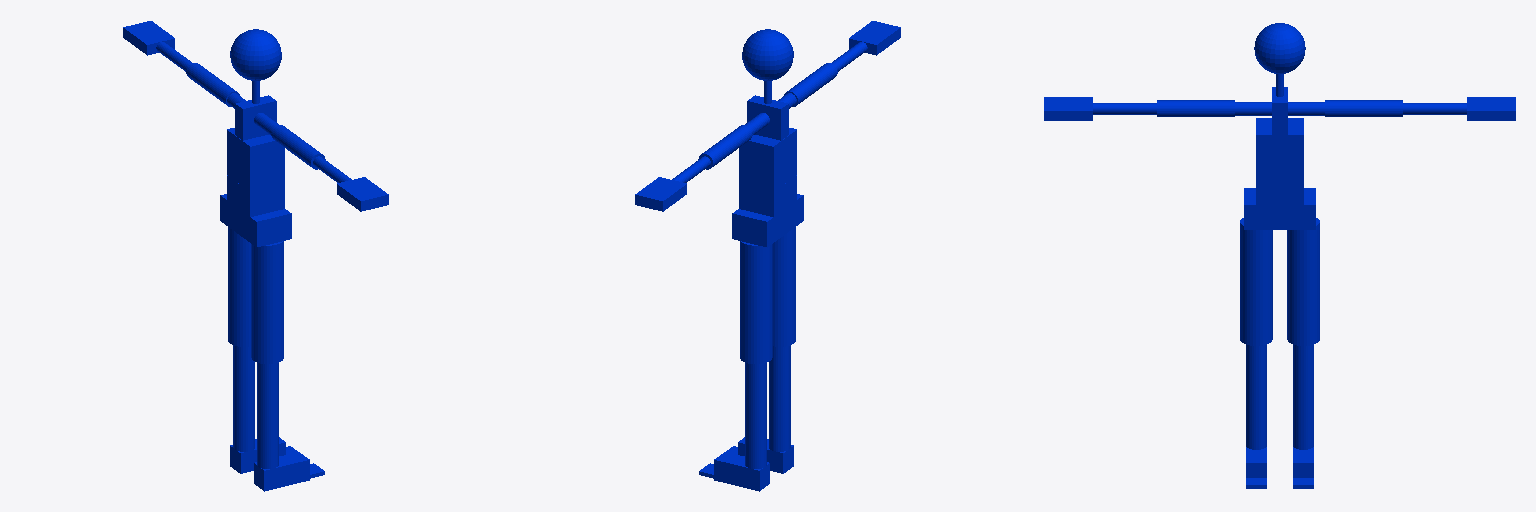
--- Render facts (derived) ---
3 views of the same robot in one strip: view 1: azimuth 30°, elevation 25°; view 2: azimuth 150°, elevation 25°; view 3: azimuth 270°, elevation 25° (orthographic).
Model humanoid with 51 links and 50 joints (50 fixed), rooted at Pelvis, posed all joints at 0.
Links seen in each view (by area): view 1: RightUpperLeg, LeftUpperLeg, RightLowerLeg, LeftLowerLeg, Head, Pelvis, T12, L5, RightFoot, L3, T8, RightHand (+4 smaller); view 2: LeftUpperLeg, RightUpperLeg, LeftLowerLeg, RightLowerLeg, Head, Pelvis, T12, L5, LeftFoot, L3, T8, LeftHand (+4 smaller); view 3: RightUpperLeg, LeftUpperLeg, Pelvis, RightLowerLeg, LeftLowerLeg, Head, T12, RightUpperArm, LeftUpperArm, L5, RightHand, LeftHand (+6 smaller).
Boxes of the visible links, box(x1,y1,x2,y2) form: RightUpperLeg: box(251, 241, 283, 363); LeftUpperLeg: box(228, 227, 250, 346); RightLowerLeg: box(257, 363, 278, 468); LeftLowerLeg: box(233, 345, 254, 451); Head: box(230, 29, 281, 80); Pelvis: box(220, 194, 291, 247); T12: box(227, 128, 284, 169); L5: box(227, 175, 284, 216); RightFoot: box(254, 452, 309, 491); L3: box(227, 153, 284, 191); T8: box(235, 95, 276, 140); RightHand: box(337, 177, 388, 211); LeftUpperLeg: box(740, 241, 772, 363); RightUpperLeg: box(773, 227, 795, 346); LeftLowerLeg: box(745, 363, 766, 468); RightLowerLeg: box(769, 345, 790, 451); Head: box(742, 29, 793, 80); Pelvis: box(732, 194, 803, 247); T12: box(739, 128, 796, 169); L5: box(739, 175, 796, 216); LeftFoot: box(714, 452, 769, 491); L3: box(739, 153, 796, 191); T8: box(747, 95, 788, 140); LeftHand: box(635, 177, 686, 211); RightUpperLeg: box(1240, 218, 1272, 345); LeftUpperLeg: box(1287, 218, 1319, 345); Pelvis: box(1244, 188, 1315, 229); RightLowerLeg: box(1246, 345, 1266, 449); LeftLowerLeg: box(1293, 345, 1313, 449); Head: box(1254, 23, 1305, 73); T12: box(1256, 118, 1303, 156); RightUpperArm: box(1157, 100, 1234, 116); LeftUpperArm: box(1325, 100, 1402, 116); L5: box(1256, 180, 1303, 204); RightHand: box(1044, 97, 1092, 120); LeftHand: box(1467, 97, 1515, 120).
Size in the robot's own frame: 0.2938 by 1.63 by 1.69 metres.
Geometry: primitives only (box / cylinder / sphere), no mesh files.

URDF robot description (humanoid):
<robot name="humanoid">

<material name="color">
    <color rgba="0.011764705882352941 0.2627450980392157 0.8745098039215686 1.0" />
</material>

<!--To open this model with Gazebo replace the null masses, inertias and dimensions of the 'fake links f1 and f2'-->
    <!--LINKS-->
	<!--Link base (1)-->
	<link name="Pelvis">
        <inertial>
            <mass value="0.04976"/>
			<!--COM origin wrt pHipOrigin-->
            <origin xyz="0           0    0.049743" rpy="0 0 0" />
            <inertia ixx="0.029678" iyy="0.011854" izz="0.033653" ixy="0" ixz="0" iyz="0"/>
        </inertial>

        <visual>
			<!--box origin wrt pHipOrigin-->
            <origin xyz="0           0    0.049743" rpy="0 0 0" />
            <geometry>
                <box size="0.13815     0.24914    0.097469"/>
            </geometry>
            <material name="color"/>
        </visual>

        <collision>
			<!--box origin wrt pHipOrigin-->
            <origin xyz="0           0    0.049743" rpy="0 0 0" />
            <geometry>
                <box size="0.13815     0.24914    0.097469"/>
            </geometry>
        </collision>

    </link>
    <!--Chain from (2) to (7)-->
	<link name="L5_f1">
        <inertial>
            <mass value="0"/>
            <origin xyz="0 0 0" rpy="0 0 0" />
            <inertia ixx="0" iyy="0" izz="0" ixy="0" ixz="0" iyz="0"/>
        </inertial>
    </link>
	<link name="L5">
        <inertial>
            <mass value="0.063444"/>
			<!--COM origin wrt jL5S1-->
            <origin xyz="0           0    0.047552" rpy="0 0 0" />
            <inertia ixx="0.018868" iyy="0.014872" izz="0.024177" ixy="0" ixz="0" iyz="0"/>
        </inertial>

        <visual>
			<!--box origin origin wrt jL5S1-->
            <origin xyz="0           0    0.047552" rpy="0 0 0" />
            <geometry>
                <box size="0.13815     0.16323    0.095104"/>
            </geometry>
            <material name="color"/>
        </visual>

        <collision>
			<!--box origin origin wrt jL5S1-->
            <origin xyz="0           0    0.047552" rpy="0 0 0" />
            <geometry>
                <box size="0.13815     0.16323    0.095104"/>
            </geometry>
        </collision>
    </link>
	<link name="L3_f1">
        <inertial>
            <mass value="0"/>
            <origin xyz="0 0 0" rpy="0 0 0" />
            <inertia ixx="0" iyy="0" izz="0" ixy="0" ixz="0" iyz="0"/>
        </inertial>
    </link>
	<link name="L3">
        <inertial>
            <mass value="0.063444"/>
			<!--COM origin wrt jL4L3-->
            <origin xyz="0           0    0.042958" rpy="0 0 0" />
            <inertia ixx="0.017989" iyy="0.013993" izz="0.024177" ixy="0" ixz="0" iyz="0"/>
        </inertial>

        <visual>
			<!--box origin origin wrt jL4L3-->
            <origin xyz="0           0    0.042958" rpy="0 0 0" />
            <geometry>
                <box size="0.13815     0.16323    0.085916"/>
            </geometry>
            <material name="color"/>
        </visual>

        <collision>
			<!--box origin origin wrt jL4L3-->
            <origin xyz="0           0    0.042958" rpy="0 0 0" />
            <geometry>
                <box size="0.13815     0.16323    0.085916"/>
            </geometry>
        </collision>
    </link>
	<link name="T12_f1">
        <inertial>
            <mass value="0"/>
            <origin xyz="0 0 0" rpy="0 0 0" />
            <inertia ixx="0" iyy="0" izz="0" ixy="0" ixz="0" iyz="0"/>
        </inertial>
    </link>
	<link name="T12">
        <inertial>
            <mass value="0.063444"/>
			<!--COM origin wrt jL1T12-->
            <origin xyz="0           0    0.042958" rpy="0 0 0" />
            <inertia ixx="0.017989" iyy="0.013993" izz="0.024177" ixy="0" ixz="0" iyz="0"/>
        </inertial>

        <visual>
			<!--box origin origin wrt jL1T12-->
            <origin xyz="0           0    0.042958" rpy="0 0 0" />
            <geometry>
                <box size="0.13815     0.16323    0.085916"/>
            </geometry>
            <material name="color"/>
        </visual>

        <collision>
			<!--box origin origin wrt jL1T12-->
            <origin xyz="0           0    0.042958" rpy="0 0 0" />
            <geometry>
                <box size="0.13815     0.16323    0.085916"/>
            </geometry>
        </collision>
    </link>
	<link name="T8_f1">
        <inertial>
            <mass value="0"/>
            <origin xyz="0 0 0" rpy="0 0 0" />
            <inertia ixx="0" iyy="0" izz="0" ixy="0" ixz="0" iyz="0"/>
        </inertial>
    </link>
	<link name="T8_f2">
        <inertial>
            <mass value="0"/>
            <origin xyz="0 0 0" rpy="0 0 0" />
            <inertia ixx="0" iyy="0" izz="0" ixy="0" ixz="0" iyz="0"/>
        </inertial>
    </link>
	<link name="T8">
        <inertial>
            <mass value="0.02488"/>
			<!--COM origin wrt jT9T8-->
            <origin xyz="0           0    0.059874" rpy="0 0 0" />
            <inertia ixx="0.0035473" iyy="0.0067278" izz="0.0043289" ixy="0" ixz="0" iyz="0"/>
        </inertial>

        <visual>
			<!--box origin wrt jT9T8-->
            <origin xyz="0           0    0.059874" rpy="0 0 0" />
            <geometry>
                <box size="0.13457    0.052626     0.11975"/>
            </geometry>
            <material name="color"/>
        </visual>

        <collision>
			<!--box origin wrt jT9T8-->
            <origin xyz="0           0    0.059874" rpy="0 0 0" />
            <geometry>
                <box size="0.13457    0.052626     0.11975"/>
            </geometry>
        </collision>

    </link>
	<link name="Neck_f1">
        <inertial>
            <mass value="0"/>
            <origin xyz="0 0 0" rpy="0 0 0" />
            <inertia ixx="0" iyy="0" izz="0" ixy="0" ixz="0" iyz="0"/>
        </inertial>
    </link>
	<link name="Neck_f2">
        <inertial>
            <mass value="0"/>
            <origin xyz="0 0 0" rpy="0 0 0" />
            <inertia ixx="0" iyy="0" izz="0" ixy="0" ixz="0" iyz="0"/>
        </inertial>
    </link>
	<link name="Neck">
        <inertial>
            <mass value="0.007464"/>
			<!--COM origin wrt jT1C7-->
            <origin xyz="0           0    0.044626" rpy="0 0 0" />
            <inertia ixx="0.0006461" iyy="0.0006461" izz="0.00030124" ixy="0" ixz="0" iyz="0"/>
        </inertial>

        <visual>
			<!--box origin wrt jT1C7-->
            <origin xyz="0           0    0.044626" rpy="0 0 0" />
            <geometry>
		<cylinder length="0.089252" radius="0.014205"/>
            </geometry>
            <material name="color"/>
        </visual>

        <collision>
			<!--box origin wrt jT1C7-->
            <origin xyz="0           0    0.044626" rpy="0 0 0" />
            <geometry>
                <cylinder length="0.089252" radius="0.014205"/>
            </geometry>
        </collision>
    </link>
	<link name="Head_f1">
        <inertial>
            <mass value="0"/>
            <origin xyz="0 0 0" rpy="0 0 0" />
            <inertia ixx="0" iyy="0" izz="0" ixy="0" ixz="0" iyz="0"/>
        </inertial>
    </link>
	<link name="Head">
        <inertial>
            <mass value="0.022392"/>
			<!--COM origin wrt jC1Head-->
            <origin xyz="0           0    0.089005" rpy="0 0 0" />
            <inertia ixx="0.0070955" iyy="0.0070955" izz="0.0070955" ixy="0" ixz="0" iyz="0"/>
        </inertial>

        <visual>
			<!--boc origin wrt jC1Head-->
            <origin xyz="0           0    0.089005" rpy="0 0 0" />
            <geometry>
                <sphere radius="0.089005"/>
            </geometry>
            <material name="color"/>
        </visual>

        <collision>
			<!--box origin wrt jC1Head-->
            <origin xyz="0           0    0.089005" rpy="0 0 0" />
            <geometry>
                <sphere radius="0.089005"/>
            </geometry>
        </collision>

    </link>
	<!--Chain from (8) to (11)-->
	<link name="RightShoulder">
        <inertial>
            <mass value="0.019282"/>
			<!--COM origin wrt jRightC7Shoulder-->
            <origin xyz="0   -0.065233           0" rpy="0 0 0" />
            <inertia ixx="0.0030029" iyy="0.00053578" izz="0.0030029" ixy="0" ixz="0" iyz="0"/>
        </inertial>

        <visual>
			<!--box origin wrt jRightC7Shoulder. RPY rotated of pi/2.-->
            <origin xyz="0   -0.065233           0" rpy="1.5708 0 0" />
            <geometry>
                <cylinder length="0.13047" radius="0.023574"/>
            </geometry>
            <material name="color"/>
        </visual>

        <collision>
			<!--box origin wrt jRightC7Shoulder. RPY rotated of pi/2.-->
            <origin xyz="0   -0.065233           0" rpy="1.5708 0 0" />
            <geometry>
                <cylinder length="0.13047" radius="0.023574"/>
            </geometry>
        </collision>

    </link>
	<link name="RightUpperArm_f1">
        <inertial>
            <mass value="0"/>
            <origin xyz="0 0 0" rpy="0 0 0" />
            <inertia ixx="0" iyy="0" izz="0" ixy="0" ixz="0" iyz="0"/>
        </inertial>
    </link>
	<link name="RightUpperArm_f2">
        <inertial>
            <mass value="0"/>
            <origin xyz="0 0 0" rpy="0 0 0" />
            <inertia ixx="0" iyy="0" izz="0" ixy="0" ixz="0" iyz="0"/>
        </inertial>
    </link>
    <link name="RightUpperArm">
        <inertial>
            <mass value="0.01866"/>
			<!--COM origin wrt jRightShoulder-->
            <origin xyz="0    -0.13497           0" rpy="0 0 0" />
            <inertia ixx="0.011736" iyy="0.00080917" izz="0.011736" ixy="0" ixz="0" iyz="0"/>
        </inertial>

        <visual>
			<!--box origin wrt jRightShoulder. RPY rotated of pi/2.-->
            <origin xyz="0    -0.13497           0" rpy="1.5708 0 0" />
            <geometry>
                <cylinder length="0.26994" radius="0.029449"/>
            </geometry>
            <material name="color"/>
        </visual>

        <collision>
			<!--box origin wrt jRightShoulder. RPY rotated of pi/2.-->
            <origin xyz="0    -0.13497           0" rpy="1.5708 0 0" />
            <geometry>
                <cylinder length="0.26994" radius="0.029449"/>
            </geometry>
        </collision>

    </link>
	<link name="RightForeArm_f1">
        <inertial>
            <mass value="0"/>
            <origin xyz="0 0 0" rpy="0 0 0" />
            <inertia ixx="0" iyy="0" izz="0" ixy="0" ixz="0" iyz="0"/>
        </inertial>
    </link>
	<link name="RightForeArm">
        <inertial>
            <mass value="0.01244"/>
			<!--COM origin wrt jRightElbow-->
            <origin xyz="0    -0.11124           0" rpy="0 0 0" />
            <inertia ixx="0.0052508" iyy="0.00023975" izz="0.0052508" ixy="0" ixz="0" iyz="0"/>
        </inertial>

        <visual>
			<!--box origin wrt jRightElbow. RPY rotated of pi/2.-->
            <origin xyz="0    -0.11124           0" rpy="1.5708 0 0" />
            <geometry>
                <cylinder length="0.22247" radius="0.019633"/>
            </geometry>
            <material name="color"/>
        </visual>

        <collision>
			<!--box origin wrt jRightElbow. RPY rotated of pi/2.-->
            <origin xyz="0    -0.11124           0" rpy="1.5708 0 0" />
            <geometry>
                <cylinder length="0.22247" radius="0.019633"/>
            </geometry>
        </collision>

    </link>
	<link name="RightHand_f1">
        <inertial>
            <mass value="0"/>
            <origin xyz="0 0 0" rpy="0 0 0" />
            <inertia ixx="0" iyy="0" izz="0" ixy="0" ixz="0" iyz="0"/>
        </inertial>
    </link>
	<link name="RightHand">
        <inertial>
            <mass value="0.003732"/>
			<!--COM origin wrt jRightWrist-->
            <origin xyz="0   -0.083588           0" rpy="0 0 0" />
            <inertia ixx="0.00091713" iyy="0.00043425" izz="0.0012555" ixy="0" ixz="0" iyz="0"/>
        </inertial>

        <visual>
			<!--box origin wrt jRightWrist-->
            <origin xyz="0   -0.083588           0" rpy="0 0 0" />
            <geometry>
                <box size="0.11145     0.16718    0.039266"/>
            </geometry>
            <material name="color"/>
        </visual>

        <collision>
			<!--box origin wrt jRightWrist-->
            <origin xyz="0   -0.083588           0" rpy="0 0 0" />
            <geometry>
                <box size="0.11145     0.16718    0.039266"/>
            </geometry>
        </collision>

    </link>
    <link name="RightHandCOM">
        <inertial>
            <mass value="0.0000001"/>
            <origin xyz="0 0 0" rpy="0 0 0" />
            <inertia ixx="0" iyy="0" izz="0" ixy="0" ixz="0" iyz="0"/>
        </inertial>
        <visual>
            <!--box origin wrt jRightWrist-->
            <origin xyz="0   0           0" rpy="0 0 0" />
            <geometry>
                <box size="0     0    0"/>
            </geometry>
            <material name="color"/>
        </visual>
    </link>
	<!--Chain from (12) to (15)-->
	<link name="LeftShoulder">
        <inertial>
            <mass value="0.019282"/>
			<!--COM origin wrt jLeftC7Shoulder-->
            <origin xyz="0    0.065233           0" rpy="0 0 0" />
            <inertia ixx="0.0030029" iyy="0.00053578" izz="0.0030029" ixy="0" ixz="0" iyz="0"/>
        </inertial>

        <visual>
			<!--box origin wrt jLeftC7Shoulder. RPY rotated of pi/2.-->
            <origin xyz="0    0.065233           0" rpy="1.5708 0 0" />
            <geometry>
                <cylinder length="0.13047" radius="0.023574"/>
            </geometry>
            <material name="color"/>
        </visual>

        <collision>
			<!--box origin wrt jLeftC7Shoulder. RPY rotated of pi/2.-->
            <origin xyz="0    0.065233           0" rpy="1.5708 0 0" />
            <geometry>
                <cylinder length="0.13047" radius="0.023574"/>
            </geometry>
        </collision>

    </link>
	<link name="LeftUpperArm_f1">
        <inertial>
            <mass value="0"/>
            <origin xyz="0 0 0" rpy="0 0 0" />
            <inertia ixx="0" iyy="0" izz="0" ixy="0" ixz="0" iyz="0"/>
        </inertial>
    </link>
	<link name="LeftUpperArm_f2">
        <inertial>
            <mass value="0"/>
            <origin xyz="0 0 0" rpy="0 0 0" />
            <inertia ixx="0" iyy="0" izz="0" ixy="0" ixz="0" iyz="0"/>
        </inertial>
    </link>
	<link name="LeftUpperArm">
        <inertial>
            <mass value="0.01866"/>
			<!--COM origin wrt jLeftShoulder-->
            <origin xyz="0     0.13497           0" rpy="0 0 0" />
            <inertia ixx="0.011736" iyy="0.00080917" izz="0.011736" ixy="0" ixz="0" iyz="0"/>
        </inertial>

        <visual>
			<!--box origin wrt jLeftShoulder. RPY rotated of pi/2.-->
            <origin xyz="0     0.13497           0" rpy="1.5708 0 0" />
            <geometry>
                <cylinder length="0.26994" radius="0.029449"/>
            </geometry>
            <material name="color"/>
        </visual>

        <collision>
			<!--box origin wrt jLeftShoulder. RPY rotated of pi/2.-->
            <origin xyz="0     0.13497           0" rpy="1.5708 0 0" />
            <geometry>
                <cylinder length="0.26994" radius="0.029449"/>
            </geometry>
        </collision>

    </link>
	<link name="LeftForeArm_f1">
        <inertial>
            <mass value="0"/>
            <origin xyz="0 0 0" rpy="0 0 0" />
            <inertia ixx="0" iyy="0" izz="0" ixy="0" ixz="0" iyz="0"/>
        </inertial>
    </link>
	<link name="LeftForeArm">
        <inertial>
            <mass value="0.01244"/>
			<!--COM origin wrt jLeftElbow-->
            <origin xyz="0     0.11124           0" rpy="0 0 0" />
            <inertia ixx="0.0052508" iyy="0.00023975" izz="0.0052508" ixy="0" ixz="0" iyz="0"/>
        </inertial>

        <visual>
			<!--box origin wrt jLeftElbow. RPY rotated of pi/2.-->
            <origin xyz="0     0.11124           0" rpy="1.5708 0 0" />
            <geometry>
                <cylinder length="0.22247" radius="0.019633"/>
            </geometry>
            <material name="color"/>
        </visual>

        <collision>
			<!--box origin wrt jLeftElbow. RPY rotated of pi/2.-->
            <origin xyz="0     0.11124           0" rpy="1.5708 0 0" />
            <geometry>
                <cylinder length="0.22247" radius="0.019633"/>
            </geometry>
        </collision>

    </link>
	<link name="LeftHand_f1">
        <inertial>
            <mass value="0"/>
            <origin xyz="0 0 0" rpy="0 0 0" />
            <inertia ixx="0" iyy="0" izz="0" ixy="0" ixz="0" iyz="0"/>
        </inertial>
    </link>
	<link name="LeftHand">
        <inertial>
            <mass value="0.003732"/>
			<!--COM origin wrt jLeftWrist-->
            <origin xyz="0    0.083588           0" rpy="0 0 0" />
            <inertia ixx="0.00091713" iyy="0.00043425" izz="0.0012555" ixy="0" ixz="0" iyz="0"/>
        </inertial>

        <visual>
			<!--COM origin wrt jLeftWrist-->
            <origin xyz="0    0.083588           0" rpy="0 0 0" />
            <geometry>
                <box size="0.11145     0.16718    0.039266"/>
            </geometry>
            <material name="color"/>
        </visual>

        <collision>
			<!--COM origin wrt jLeftWrist-->
            <origin xyz="0    0.083588           0" rpy="0 0 0" />
            <geometry>
                <box size="0.11145     0.16718    0.039266"/>
            </geometry>
        </collision>

    </link>
    <link name="LeftHandCOM">
        <inertial>
            <mass value="0.0000001"/>
            <origin xyz="0 0 0" rpy="0 0 0" />
            <inertia ixx="0" iyy="0" izz="0" ixy="0" ixz="0" iyz="0"/>
        </inertial>
        <visual>
            <!--COM origin wrt jLeftWrist-->
            <origin xyz="0    0           0" rpy="0 0 0" />
            <geometry>
                <box size="0     0    0"/>
            </geometry>
            <material name="color"/>
        </visual>
    </link>
	<!--Chain from (16) to (19)-->
	<link name="RightUpperLeg_f1">
        <inertial>
            <mass value="0"/>
            <origin xyz="0 0 0" rpy="0 0 0" />
            <inertia ixx="0" iyy="0" izz="0" ixy="0" ixz="0" iyz="0"/>
        </inertial>
    </link>
	<link name="RightUpperLeg_f2">
        <inertial>
            <mass value="0"/>
            <origin xyz="0 0 0" rpy="0 0 0" />
            <inertia ixx="0" iyy="0" izz="0" ixy="0" ixz="0" iyz="0"/>
        </inertial>
    </link>
    <link name="RightUpperLeg">
        <inertial>
            <mass value="0.07775"/>
			<!--COM origin wrt jRightHip-->
            <origin xyz="0           0    -0.22449" rpy="0 0 0" />
            <inertia ixx="0.13681" iyy="0.13681" izz="0.01241" ixy="0" ixz="0" iyz="0"/>
        </inertial>

        <visual>
			<!--box origin wrt jRightHip-->
            <origin xyz="0           0    -0.22449" rpy="0 0 0" />
            <geometry>
                <cylinder length="0.44898" radius="0.0565"/>
            </geometry>
            <material name="color"/>
        </visual>

        <collision>
			<!--box origin wrt jRightHip-->
            <origin xyz="0           0    -0.22449" rpy="0 0 0" />
            <geometry>
                <cylinder length="0.44898" radius="0.0565"/>
            </geometry>
        </collision>

    </link>
	<link name="RightLowerLeg_f1">
        <inertial>
            <mass value="0"/>
            <origin xyz="0 0 0" rpy="0 0 0" />
            <inertia ixx="0" iyy="0" izz="0" ixy="0" ixz="0" iyz="0"/>
        </inertial>
    </link>
    <link name="RightLowerLeg">
        <inertial>
            <mass value="0.022703"/>
			<!--COM origin wrt jRightKnee-->
            <origin xyz="0           0    -0.20304" rpy="0 0 0" />
            <inertia ixx="0.031992" iyy="0.031992" izz="0.0015867" ixy="0" ixz="0" iyz="0"/>
        </inertial>

        <visual>
			<!--box origin wrt jRightKnee-->
            <origin xyz="0           0    -0.20304" rpy="0 0 0" />
            <geometry>
                <cylinder length="0.40608" radius="0.037388"/>
            </geometry>
            <material name="color"/>
        </visual>

        <collision>
			<!--box origin wrt jRightKnee-->
            <origin xyz="0           0    -0.20304" rpy="0 0 0" />
            <geometry>
                <cylinder length="0.40608" radius="0.037388"/>
            </geometry>
        </collision>

    </link>
	<link name="RightFoot_f1">
        <inertial>
            <mass value="0"/>
            <origin xyz="0 0 0" rpy="0 0 0" />
            <inertia ixx="0" iyy="0" izz="0" ixy="0" ixz="0" iyz="0"/>
        </inertial>
    </link>
	<link name="RightFoot_f2">
        <inertial>
            <mass value="0"/>
            <origin xyz="0 0 0" rpy="0 0 0" />
            <inertia ixx="0" iyy="0" izz="0" ixy="0" ixz="0" iyz="0"/>
        </inertial>
    </link>
    <link name="RightFoot">
        <inertial>
            <mass value="0.008086"/>
			<!--COM origin wrt jRightAnkle-->
            <origin xyz="0.054652           0   -0.039254" rpy="0 0 0" />
            <inertia ixx="0.00079209" iyy="0.0025944" izz="0.0025558" ixy="0" ixz="0" iyz="0"/>
        </inertial>

        <visual>
			<!--box origin wrt jRightAnkle-->
	    	<origin xyz="0.054652           0   -0.039254" rpy="0 0 0" />
            <geometry>
                <box size="0.17983    0.074775    0.078509"/>
            </geometry>
            <material name="color"/>
        </visual>

        <collision>
			<!--box origin wrt jRightAnkle-->
		    <origin xyz="0.054652           0   -0.039254" rpy="0 0 0" />
	            <geometry>
	                <box size="0.17983    0.074775    0.078509"/>
	            </geometry>
        </collision>

    </link>
    <link name="RightToe">
        <inertial>
            <mass value="0.000933"/>
			<!--COM origin wrt jRightBallFoot-->
            <origin xyz="0.030086           0           0" rpy="0 0 0" />
            <inertia ixx="4.5038e-05" iyy="2.9717e-05" izz="7.1624e-05" ixy="0" ixz="0" iyz="0"/>
        </inertial>

        <visual>
			<!--box origin wrt jRightBallFoot-->
            <origin xyz="0.030086           0           0" rpy="0 0 0" />
            <geometry>
                <box size="0.060173    0.074775    0.014191"/>
            </geometry>
            <material name="color"/>
        </visual>

        <collision>
			<!--box origin wrt jRightBallFoot-->
            <origin xyz="0.030086           0           0" rpy="0 0 0" />
            <geometry>
                <box size="0.060173    0.074775    0.014191"/>
            </geometry>
        </collision>
    </link>
	<!--Chain from (20) to (23)-->
	<link name="LeftUpperLeg_f1">
        <inertial>
            <mass value="0"/>
            <origin xyz="0 0 0" rpy="0 0 0" />
            <inertia ixx="0" iyy="0" izz="0" ixy="0" ixz="0" iyz="0"/>
        </inertial>
    </link>
	<link name="LeftUpperLeg_f2">
        <inertial>
            <mass value="0"/>
            <origin xyz="0 0 0" rpy="0 0 0" />
            <inertia ixx="0" iyy="0" izz="0" ixy="0" ixz="0" iyz="0"/>
        </inertial>
    </link>
    <link name="LeftUpperLeg">
        <inertial>
            <mass value="0.07775"/>
			<!--COM origin wrt jLeftHip-->
            <origin xyz="0           0    -0.22449" rpy="0 0 0" />
            <inertia ixx="0.13681" iyy="0.13681" izz="0.01241" ixy="0" ixz="0" iyz="0"/>
        </inertial>

        <visual>
			<!--box origin wrt jLeftHip-->
            <origin xyz="0           0    -0.22449" rpy="0 0 0" />
            <geometry>
                <cylinder length="0.44898" radius="0.0565"/>
            </geometry>
            <material name="color"/>
        </visual>

        <collision>
			<!--box origin wrt jLeftHip-->
            <origin xyz="0           0    -0.22449" rpy="0 0 0" />
            <geometry>
                <cylinder length="0.44898" radius="0.0565"/>
            </geometry>
        </collision>

    </link>
	<link name="LeftLowerLeg_f1">
        <inertial>
            <mass value="0"/>
            <origin xyz="0 0 0" rpy="0 0 0" />
            <inertia ixx="0" iyy="0" izz="0" ixy="0" ixz="0" iyz="0"/>
        </inertial>
    </link>
	<link name="LeftLowerLeg">
        <inertial>
            <mass value="0.022703"/>
			<!--COM origin wrt jLeftKnee-->
            <origin xyz="0           0    -0.20304" rpy="0 0 0" />
            <inertia ixx="0.031992" iyy="0.031992" izz="0.0015867" ixy="0" ixz="0" iyz="0"/>
        </inertial>

        <visual>
			<!--box origin wrt jLeftKnee-->
            <origin xyz="0           0    -0.20304" rpy="0 0 0" />
            <geometry>
		<cylinder length="0.40608" radius="0.037388"/>
            </geometry>
            <material name="color"/>
        </visual>

        <collision>
			<!--box origin wrt jLeftKnee-->
            <origin xyz="0           0    -0.20304" rpy="0 0 0" />
            <geometry>
		<cylinder length="0.40608" radius="0.037388"/>
            </geometry>
        </collision>

    </link>
	<link name="LeftFoot_f1">
        <inertial>
            <mass value="0"/>
            <origin xyz="0 0 0" rpy="0 0 0" />
            <inertia ixx="0" iyy="0" izz="0" ixy="0" ixz="0" iyz="0"/>
        </inertial>
    </link>
	<link name="LeftFoot_f2">
        <inertial>
            <mass value="0"/>
            <origin xyz="0 0 0" rpy="0 0 0" />
            <inertia ixx="0" iyy="0" izz="0" ixy="0" ixz="0" iyz="0"/>
        </inertial>
    </link>
    <link name="LeftFoot">
        <inertial>
            <mass value="0.008086"/>
			<!--COM origin wrt jLeftAnkle-->
            <origin xyz="0.054652           0   -0.039254" rpy="0 0 0" />
            <inertia ixx="0.00079209" iyy="0.0025944" izz="0.0025558" ixy="0" ixz="0" iyz="0"/>
        </inertial>

        <visual>
			<!--box origin wrt jLeftAnkle-->
	   	 	<origin xyz="0.054652           0   -0.039254" rpy="0 0 0" />
            <geometry>
                <box size="0.17983    0.074775    0.078509"/>
            </geometry>
            <material name="color"/>
        </visual>

        <collision>
			<!--box origin wrt jLeftAnkle-->
		    <origin xyz="0.054652           0   -0.039254" rpy="0 0 0" />
	            <geometry>
	                <box size="0.17983    0.074775    0.078509"/>
	            </geometry>
        </collision>

    </link>
	<link name="LeftToe">
        <inertial>
            <mass value="0.000933"/>
			<!--COM origin wrt jLeftBallFoot-->
            <origin xyz="0.030086           0           0" rpy="0 0 0" />
            <inertia ixx="4.5038e-05" iyy="2.9717e-05" izz="7.1624e-05" ixy="0" ixz="0" iyz="0"/>
        </inertial>

        <visual>
			<!--box origin wrt jLeftBallFoot-->
            <origin xyz="0.030086           0           0" rpy="0 0 0" />
            <geometry>
                <box size="0.060173    0.074775    0.014191"/>
            </geometry>
            <material name="color"/>
        </visual>

        <collision>
			<!--box origin wrt jLeftBallFoot-->
            <origin xyz="0.030086           0           0" rpy="0 0 0" />
            <geometry>
                <box size="0.060173    0.074775    0.014191"/>
            </geometry>
        </collision>
    </link>


	<!--JOINTS-->
	<!--Chain from (2) to (7)-->
	<joint name="jL5S1_rotx" type="fixed">
        <origin xyz="-0.000206           0    0.098478" rpy="0 0 0"/>
        <parent link="Pelvis"/>
        <child link="L5_f1"/>
        <dynamics damping="0.1" friction="0.0"/>
        <limit effort="30" velocity="1.0" lower="-0.610865" upper="0.610865" />
        <axis xyz="1 0 0" />
    </joint>
	<joint name="jL5S1_roty" type="fixed">
        <origin xyz="0 0 0" rpy="0 0 0"/>
        <parent link="L5_f1"/>
        <child link="L5"/>
        <dynamics damping="0.1" friction="0.0"/>
        <limit effort="30" velocity="1.0" lower="-0.523599" upper="1.309" />
        <axis xyz="0 1 0" />
    </joint>
	<joint name="jL4L3_rotx" type="fixed">
        <origin xyz="0.000374           0    0.095104" rpy="0 0 0"/>
        <parent link="L5"/>
        <child link="L3_f1"/>
        <dynamics damping="0.1" friction="0.0"/>
        <limit effort="30" velocity="1.0" lower="-0.610865" upper="0.610865" />
        <axis xyz="1 0 0" />
    </joint>
	<joint name="jL4L3_roty" type="fixed">
        <origin xyz="0 0 0" rpy="0 0 0"/>
        <parent link="L3_f1"/>
        <child link="L3"/>
        <dynamics damping="0.1" friction="0.0"/>
        <limit effort="30" velocity="1.0" lower="-0.523599" upper="1.309" />
        <axis xyz="0 1 0" />
    </joint>
	<joint name="jL1T12_rotx" type="fixed">
        <origin xyz="0           0    0.085916" rpy="0 0 0"/>
        <parent link="L3"/>
        <child link="T12_f1"/>
        <dynamics damping="0.1" friction="0.0"/>
        <limit effort="30" velocity="1.0" lower="-0.610865" upper="0.610865" />
        <axis xyz="1 0 0" />
    </joint>
	<joint name="jL1T12_roty" type="fixed">
        <origin xyz="0 0 0" rpy="0 0 0"/>
        <parent link="T12_f1"/>
        <child link="T12"/>
        <dynamics damping="0.1" friction="0.0"/>
        <limit effort="30" velocity="1.0" lower="-0.523599" upper="1.309" />
        <axis xyz="0 1 0" />
    </joint>
	<joint name="jT9T8_rotx" type="fixed">
        <origin xyz="0           0    0.085916" rpy="0 0 0"/>
        <parent link="T12"/>
        <child link="T8_f1"/>
        <dynamics damping="0.1" friction="0.0"/>
        <limit effort="30" velocity="1.0" lower="-0.349066" upper="0.349066" />
        <axis xyz="1 0 0" />
    </joint>
	<joint name="jT9T8_roty" type="fixed">
        <origin xyz="0 0 0" rpy="0 0 0"/>
        <parent link="T8_f1"/>
        <child link="T8_f2"/>
        <dynamics damping="0.1" friction="0.0"/>
        <limit effort="30" velocity="1.0" lower="-0.261799" upper="0.698132" />
        <axis xyz="0 1 0" />
    </joint>
    <joint name="jT9T8_rotz" type="fixed">
        <origin xyz="0 0 0" rpy="0 0 0"/>
        <parent link="T8_f2"/>
        <child link="T8"/>
        <dynamics damping="0.1" friction="0.0"/>
        <limit effort="30" velocity="1.0" lower="-0.610865" upper="0.610865" />
        <axis xyz="0 0 1" />
    </joint>
	<joint name="jT1C7_rotx" type="fixed">
        <origin xyz="0           0     0.11975" rpy="0 0 0"/>
        <parent link="T8"/>
        <child link="Neck_f1"/>
        <dynamics damping="0.1" friction="0.0"/>
        <limit effort="30" velocity="1.0" lower="-0.610865" upper="0.610865" />
        <axis xyz="1 0 0" />
    </joint>
	<joint name="jT1C7_roty" type="fixed">
        <origin xyz="0 0 0" rpy="0 0 0"/>
        <parent link="Neck_f1"/>
        <child link="Neck_f2"/>
        <dynamics damping="0.1" friction="0.0"/>
        <limit effort="30" velocity="1.0" lower="-0.959931" upper="1.5708" />
        <axis xyz="0 1 0" />
    </joint>
    <joint name="jT1C7_rotz" type="fixed">
        <origin xyz="0 0 0" rpy="0 0 0"/>
        <parent link="Neck_f2"/>
        <child link="Neck"/>
        <dynamics damping="0.1" friction="0.0"/>
        <limit effort="30" velocity="1.0" lower="-1.22173" upper="1.22173" />
        <axis xyz="0 0 1" />
    </joint>
	<joint name="jC1Head_rotx" type="fixed">
        <origin xyz="0.000152           0    0.089252" rpy="0 0 0"/>
        <parent link="Neck"/>
        <child link="Head_f1"/>
        <dynamics damping="0.1" friction="0.0"/>
        <limit effort="30" velocity="1.0" lower="-0.610865" upper="0.610865" />
        <axis xyz="1 0 0" />
    </joint>
	<joint name="jC1Head_roty" type="fixed">
        <origin xyz="0 0 0" rpy="0 0 0"/>
        <parent link="Head_f1"/>
        <child link="Head"/>
        <dynamics damping="0.1" friction="0.0"/>
        <limit effort="30" velocity="1.0" lower="-0.436332" upper="0.174533" />
        <axis xyz="0 1 0" />
    </joint>
	<!--Chain from (8) to (11)-->
	<joint name="jRightC7Shoulder_rotx" type="fixed">
        <origin xyz="0   -0.026313    0.067052" rpy="0 0 0"/>
        <parent link="T8"/>
        <child link="RightShoulder"/>
        <dynamics damping="0.1" friction="0.0"/>
        <limit effort="30" velocity="1.0" lower="-0.785398" upper="0.0872665" />
        <axis xyz="1 0 0" />
    </joint>
	<joint name="jRightShoulder_rotx" type="fixed">
        <origin xyz="0    -0.13047           0" rpy="0 0 0"/>
        <parent link="RightShoulder"/>
        <child link="RightUpperArm_f1"/>
        <dynamics damping="0.1" friction="0.0"/>
        <limit effort="30" velocity="1.0" lower="-2.35619" upper="1.5708" />
        <axis xyz="1 0 0" />
    </joint>
	<joint name="jRightShoulder_roty" type="fixed">
        <origin xyz="0 0 0" rpy="0 0 0"/>
        <parent link="RightUpperArm_f1"/>
        <child link="RightUpperArm_f2"/>
        <dynamics damping="0.1" friction="0.0"/>
        <limit effort="30" velocity="1.0" lower="-1.5708" upper="1.5708" />
        <axis xyz="0 1 0" />
    </joint>
    <joint name="jRightShoulder_rotz" type="fixed">
        <origin xyz="0 0 0" rpy="0 0 0"/>
        <parent link="RightUpperArm_f2"/>
        <child link="RightUpperArm"/>
        <dynamics damping="0.1" friction="0.0"/>
        <limit effort="30" velocity="1.0" lower="-0.785398" upper="3.14159" />
        <axis xyz="0 0 1" />
    </joint>
	<joint name="jRightElbow_roty" type="fixed">
        <origin xyz="0    -0.26994           0" rpy="0 0 0"/>
        <parent link="RightUpperArm"/>
        <child link="RightForeArm_f1"/>
        <dynamics damping="0.1" friction="0.0"/>
        <limit effort="30" velocity="1.0" lower="-1.5708" upper="1.48353" />
        <axis xyz="0 1 0" />
    </joint>
	<joint name="jRightElbow_rotz" type="fixed">
        <origin xyz="0 0 0" rpy="0 0 0"/>
        <parent link="RightForeArm_f1"/>
        <child link="RightForeArm"/>
        <dynamics damping="0.1" friction="0.0"/>
        <limit effort="30" velocity="1.0" lower="0" upper="2.53073" />
        <axis xyz="0 0 1" />
    </joint>
	<joint name="jRightWrist_rotx" type="fixed">
        <origin xyz="7.7e-05    -0.22247           0" rpy="0 0 0"/>
        <parent link="RightForeArm"/>
        <child link="RightHand_f1"/>
        <dynamics damping="0.1" friction="0.0"/>
        <limit effort="30" velocity="1.0" lower="-0.872665" upper="1.0472" />
        <axis xyz="1 0 0" />
    </joint>
	<joint name="jRightWrist_rotz" type="fixed">
        <origin xyz="0 0 0" rpy="0 0 0"/>
        <parent link="RightHand_f1"/>
        <child link="RightHand"/>
        <dynamics damping="0.1" friction="0.0"/>
        <limit effort="30" velocity="1.0" lower="-0.523599" upper="0.349066" />
        <axis xyz="0 0 1" />
    </joint>
    <joint name="jRightHandCOM" type="fixed">
        <origin xyz="0 -0.096206 0" rpy="0 0 0"/>
        <parent link="RightHand"/>
        <child link="RightHandCOM"/>
        <axis xyz="0 0 0" />
    </joint>
	<!--Chain from (12) to (15)-->
	<joint name="jLeftC7Shoulder_rotx" type="fixed">
        <origin xyz="0    0.026313    0.067052" rpy="0 0 0"/>
        <parent link="T8"/>
        <child link="LeftShoulder"/>
        <dynamics damping="0.1" friction="0.0"/>
        <limit effort="30" velocity="1.0" lower="-0.0872665" upper="0.785398" />
        <axis xyz="1 0 0" />
    </joint>
	<joint name="jLeftShoulder_rotx" type="fixed">
        <origin xyz="0     0.13047           0" rpy="0 0 0"/>
        <parent link="LeftShoulder"/>
        <child link="LeftUpperArm_f1"/>
        <dynamics damping="0.1" friction="0.0"/>
        <limit effort="30" velocity="1.0" lower="-1.5708" upper="2.35619" />
        <axis xyz="1 0 0" />
    </joint>
	<joint name="jLeftShoulder_roty" type="fixed">
        <origin xyz="0 0 0" rpy="0 0 0"/>
        <parent link="LeftUpperArm_f1"/>
        <child link="LeftUpperArm_f2"/>
        <dynamics damping="0.1" friction="0.0"/>
        <limit effort="30" velocity="1.0" lower="-1.5708" upper="1.5708" />
        <axis xyz="0 1 0" />
    </joint>
    <joint name="jLeftShoulder_rotz" type="fixed">
        <origin xyz="0 0 0" rpy="0 0 0"/>
        <parent link="LeftUpperArm_f2"/>
        <child link="LeftUpperArm"/>
        <dynamics damping="0.1" friction="0.0"/>
        <limit effort="30" velocity="1.0" lower="-3.14159" upper="0.785398" />
        <axis xyz="0 0 1" />
    </joint>
    <joint name="jLeftElbow_roty" type="fixed">
        <origin xyz="0     0.26994           0" rpy="0 0 0"/>
        <parent link="LeftUpperArm"/>
        <child link="LeftForeArm_f1"/>
        <dynamics damping="0.1" friction="0.0"/>
        <limit effort="30" velocity="1.0" lower="-1.5708" upper="1.48353" />
        <axis xyz="0 1 0" />
    </joint>
    <joint name="jLeftElbow_rotz" type="fixed">
        <origin xyz="0 0 0" rpy="0 0 0"/>
        <parent link="LeftForeArm_f1"/>
        <child link="LeftForeArm"/>
        <dynamics damping="0.1" friction="0.0"/>
        <limit effort="30" velocity="1.0" lower="-2.53073" upper="0" />
        <axis xyz="0 0 1" />
    </joint>
	<joint name="jLeftWrist_rotx" type="fixed">
        <origin xyz="7.7e-05     0.22247           0" rpy="0 0 0"/>
        <parent link="LeftForeArm"/>
        <child link="LeftHand_f1"/>
        <dynamics damping="0.1" friction="0.0"/>
        <limit effort="30" velocity="1.0" lower="-1.0472" upper="0.872665" />
        <axis xyz="1 0 0" />
    </joint>
	<joint name="jLeftWrist_rotz" type="fixed">
        <origin xyz="0 0 0" rpy="0 0 0"/>
        <parent link="LeftHand_f1"/>
        <child link="LeftHand"/>
        <dynamics damping="0.1" friction="0.0"/>
        <limit effort="30" velocity="1.0" lower="-0.349066" upper="0.523599" />
        <axis xyz="0 0 1" />
    </joint>
    <joint name="jLeftHandCOM" type="fixed">
        <origin xyz="0 0.096206 0" rpy="0 0 0"/>
        <parent link="LeftHand"/>
        <child link="LeftHandCOM"/>
        <axis xyz="0 0 0" />
    </joint>
	<!--Chain from (16) to (19)-->
	<joint name="jRightHip_rotx" type="fixed">
        <origin xyz="0.000103   -0.081614    0.001009" rpy="0 0 0"/>
        <parent link="Pelvis"/>
        <child link="RightUpperLeg_f1"/>
        <dynamics damping="0.1" friction="0.0"/>
        <limit effort="30" velocity="1.0" lower="-0.785398" upper="0.523599" />
        <axis xyz="1 0 0" />
    </joint>
	<joint name="jRightHip_roty" type="fixed">
        <origin xyz="0 0 0" rpy="0 0 0"/>
        <parent link="RightUpperLeg_f1"/>
        <child link="RightUpperLeg_f2"/>
        <dynamics damping="0.1" friction="0.0"/>
        <limit effort="30" velocity="1.0" lower="-2.0944" upper="0.261799" />
        <axis xyz="0 1 0" />
    </joint>
    <joint name="jRightHip_rotz" type="fixed">
        <origin xyz="0 0 0" rpy="0 0 0"/>
        <parent link="RightUpperLeg_f2"/>
        <child link="RightUpperLeg"/>
        <dynamics damping="0.1" friction="0.0"/>
        <limit effort="30" velocity="1.0" lower="-0.785398" upper="0.785398" />
        <axis xyz="0 0 1" />
    </joint>
	<joint name="jRightKnee_roty" type="fixed">
        <origin xyz="3.6e-05           0    -0.44898" rpy="0 0 0"/>
        <parent link="RightUpperLeg"/>
        <child link="RightLowerLeg_f1"/>
        <dynamics damping="0.1" friction="0.0"/>
        <limit effort="30" velocity="1.0" lower="0" upper="2.35619" />
        <axis xyz="0 1 0" />
    </joint>
	<joint name="jRightKnee_rotz" type="fixed">
        <origin xyz="0 0 0" rpy="0 0 0"/>
        <parent link="RightLowerLeg_f1"/>
        <child link="RightLowerLeg"/>
        <dynamics damping="0.1" friction="0.0"/>
        <limit effort="30" velocity="1.0" lower="-0.698132" upper="0.523599" />
        <axis xyz="0 0 1" />
    </joint>
	<joint name="jRightAnkle_rotx" type="fixed">
        <origin xyz="0.000205           0    -0.40608" rpy="0 0 0"/>
        <parent link="RightLowerLeg"/>
        <child link="RightFoot_f1"/>
        <dynamics damping="0.1" friction="0.0"/>
        <limit effort="30" velocity="1.0" lower="-0.610865" upper="0.785398" />
        <axis xyz="1 0 0" />
    </joint>
	<joint name="jRightAnkle_roty" type="fixed">
        <origin xyz="0 0 0" rpy="0 0 0"/>
        <parent link="RightFoot_f1"/>
        <child link="RightFoot_f2"/>
        <dynamics damping="0.1" friction="0.0"/>
        <limit effort="30" velocity="1.0" lower="-0.523599" upper="0.872665" />
        <axis xyz="0 1 0" />
    </joint>
    <joint name="jRightAnkle_rotz" type="fixed">
        <origin xyz="0 0 0" rpy="0 0 0"/>
        <parent link="RightFoot_f2"/>
        <child link="RightFoot"/>
        <dynamics damping="0.1" friction="0.0"/>
        <limit effort="30" velocity="1.0" lower="-0.436332" upper="0.872665" />
        <axis xyz="0 0 1" />
    </joint>
	<joint name="jRightBallFoot_roty" type="fixed">
        <origin xyz="0.14456           0   -0.064752" rpy="0 0 0"/>
        <parent link="RightFoot"/>
        <child link="RightToe"/>
        <dynamics damping="0.1" friction="0.0"/>
        <limit effort="30" velocity="1.0" lower="-0.174533" upper="1.5708" />
        <axis xyz="0 1 0" />
    </joint>
	<!--Chain from (20) to (23)-->
	<joint name="jLeftHip_rotx" type="fixed">
        <origin xyz="0.000103    0.081614    0.001009" rpy="0 0 0"/>
        <parent link="Pelvis"/>
        <child link="LeftUpperLeg_f1"/>
        <dynamics damping="0.1" friction="0.0"/>
        <limit effort="30" velocity="1.0" lower="-0.523599" upper="0.785398" />
        <axis xyz="1 0 0" />
    </joint>
	<joint name="jLeftHip_roty" type="fixed">
        <origin xyz="0 0 0" rpy="0 0 0"/>
        <parent link="LeftUpperLeg_f1"/>
        <child link="LeftUpperLeg_f2"/>
        <dynamics damping="0.1" friction="0.0"/>
        <limit effort="30" velocity="1.0" lower="-2.0944" upper="0.261799" />
        <axis xyz="0 1 0" />
    </joint>
    <joint name="jLeftHip_rotz" type="fixed">
        <origin xyz="0 0 0" rpy="0 0 0"/>
        <parent link="LeftUpperLeg_f2"/>
        <child link="LeftUpperLeg"/>
        <dynamics damping="0.1" friction="0.0"/>
        <limit effort="30" velocity="1.0" lower="-0.785398" upper="0.785398" />
        <axis xyz="0 0 1" />
    </joint>
	<joint name="jLeftKnee_roty" type="fixed">
        <origin xyz="3.6e-05           0    -0.44898" rpy="0 0 0"/>
        <parent link="LeftUpperLeg"/>
        <child link="LeftLowerLeg_f1"/>
        <dynamics damping="0.1" friction="0.0"/>
        <limit effort="30" velocity="1.0" lower="0" upper="2.35619" />
        <axis xyz="0 1 0" />
    </joint>
    <joint name="jLeftKnee_rotz" type="fixed">
        <origin xyz="0 0 0" rpy="0 0 0"/>
        <parent link="LeftLowerLeg_f1"/>
        <child link="LeftLowerLeg"/>
        <dynamics damping="0.1" friction="0.0"/>
        <limit effort="30" velocity="1.0" lower="-0.523599" upper="0.698132" />
        <axis xyz="0 0 1" />
    </joint>
	<joint name="jLeftAnkle_rotx" type="fixed">
        <origin xyz="0.000205           0    -0.40608" rpy="0 0 0"/>
        <parent link="LeftLowerLeg"/>
        <child link="LeftFoot_f1"/>
        <dynamics damping="0.1" friction="0.0"/>
        <limit effort="30" velocity="1.0" lower="-0.785398" upper="0.610865" />
        <axis xyz="1 0 0" />
    </joint>
	<joint name="jLeftAnkle_roty" type="fixed">
        <origin xyz="0 0 0" rpy="0 0 0"/>
        <parent link="LeftFoot_f1"/>
        <child link="LeftFoot_f2"/>
        <dynamics damping="0.1" friction="0.0"/>
        <limit effort="30" velocity="1.0" lower="-0.523599" upper="0.872665" />
        <axis xyz="0 1 0" />
    </joint>
    <joint name="jLeftAnkle_rotz" type="fixed">
        <origin xyz="0 0 0" rpy="0 0 0"/>
        <parent link="LeftFoot_f2"/>
        <child link="LeftFoot"/>
        <dynamics damping="0.1" friction="0.0"/>
        <limit effort="30" velocity="1.0" lower="-0.872665" upper="0.436332" />
        <axis xyz="0 0 1" />
    </joint>
	<joint name="jLeftBallFoot_roty" type="fixed">
        <origin xyz="0.14456           0   -0.064752" rpy="0 0 0"/>
        <parent link="LeftFoot"/>
        <child link="LeftToe"/>
        <dynamics damping="0.1" friction="0.0"/>
        <limit effort="30" velocity="1.0" lower="-0.174533" upper="1.5708" />
        <axis xyz="0 1 0" />
    </joint>

</robot>
